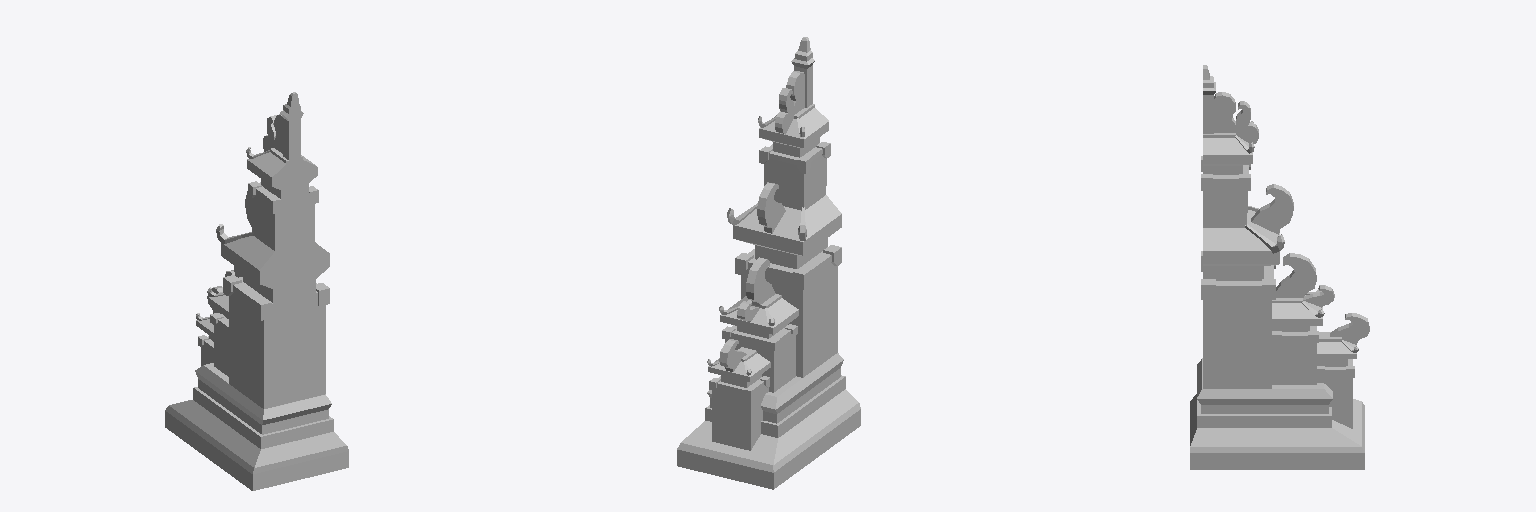
File: TD_Gate.obj
3 renders of one model, left to right at view 1: azimuth 30°, elevation 25°; view 2: azimuth 150°, elevation 25°; view 3: azimuth 270°, elevation 25°, orthographic.
Parts seen in each view (by area): view 1: TD_TempleGateHalf:polySurface37 TD_TempleGateHalf:polySurface38 ; view 2: TD_TempleGateHalf:polySurface37 TD_TempleGateHalf:polySurface38 ; view 3: TD_TempleGateHalf:polySurface37 TD_TempleGateHalf:polySurface38 .
Part boxes in pixels (left/top/right/bottom): TD_TempleGateHalf:polySurface37 TD_TempleGateHalf:polySurface38 : left=165, top=92, right=348, bottom=490; TD_TempleGateHalf:polySurface37 TD_TempleGateHalf:polySurface38 : left=677, top=37, right=860, bottom=489; TD_TempleGateHalf:polySurface37 TD_TempleGateHalf:polySurface38 : left=1190, top=65, right=1369, bottom=469.
Bounding box in the file's own units: 1.36 × 5.14 × 2.19.